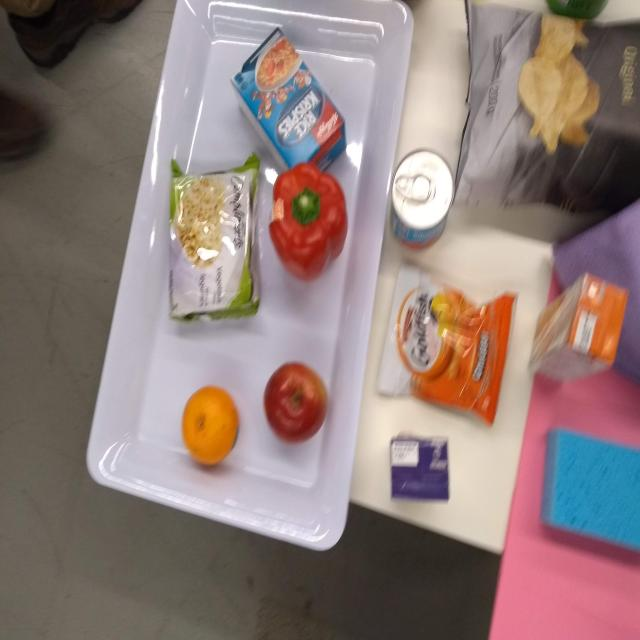apple: (261, 359, 330, 446)
cereal: (230, 27, 348, 187)
crackers: (370, 262, 520, 430)
grape_juice: (386, 429, 452, 506)
noodles: (165, 151, 264, 324)
orange: (178, 382, 241, 470)
orange_juice: (523, 268, 633, 390)
paprika: (266, 163, 350, 285)
sausages: (387, 144, 457, 253)
